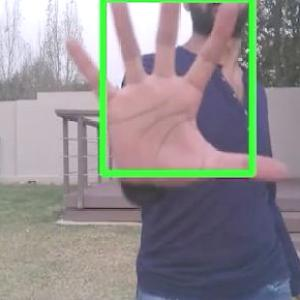follow_hand: (60, 0, 288, 197)
